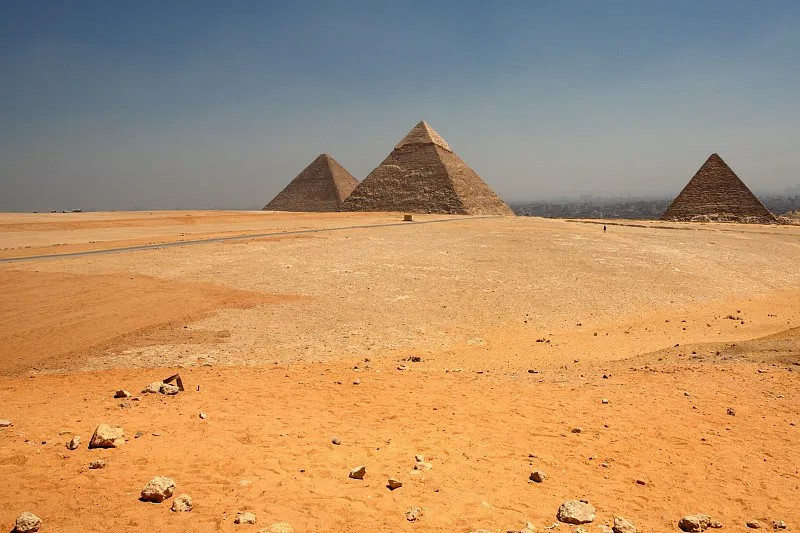Pyramid: (340, 120, 515, 216), (662, 153, 779, 226), (262, 153, 361, 211)
